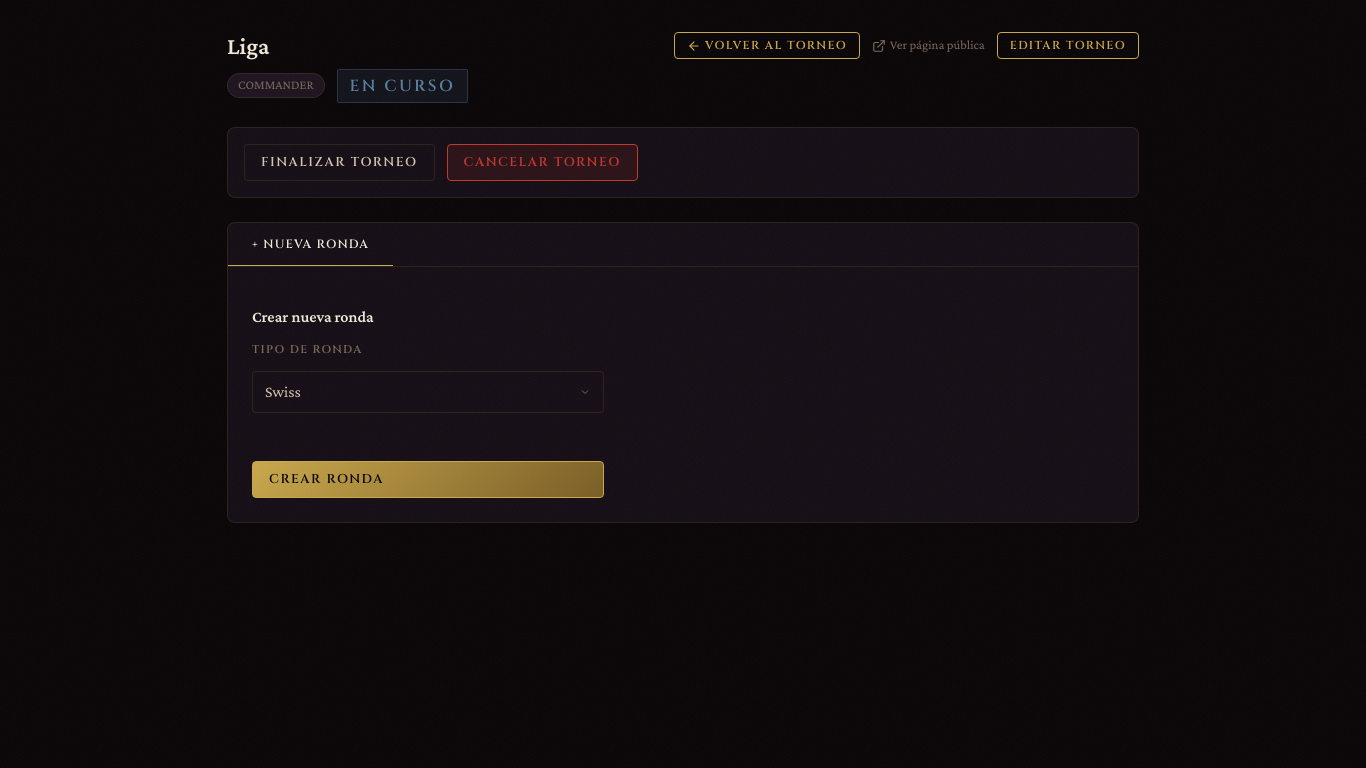
Scenario: GestionTorneo › muestra error cuando falla cambiarEstadoTorneo
Check: the heading "Liga" is shown, box [227,32,270,59]
Click the button "Finalizar torneo" at (339, 162), box [244,144,434,181]
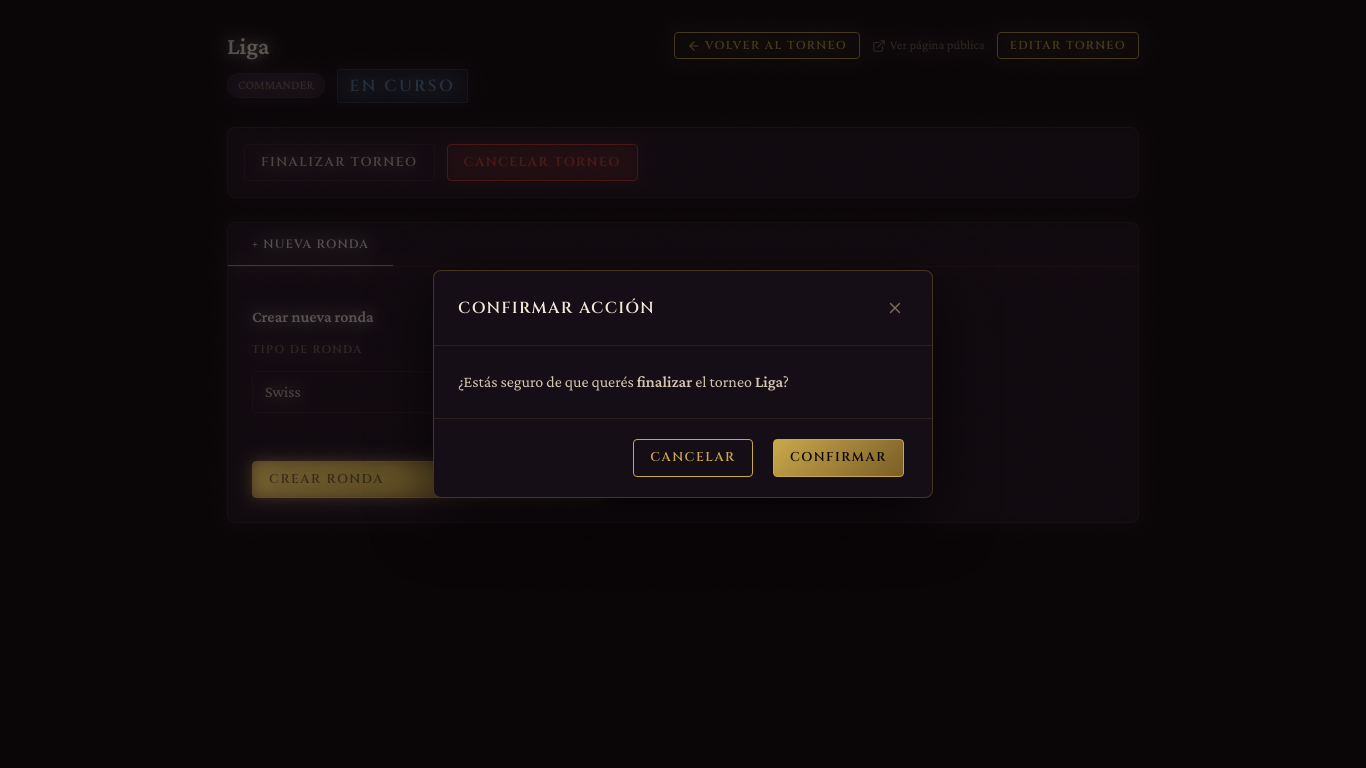
Click the button "Confirmar" at (838, 458), box [773,439,904,477]
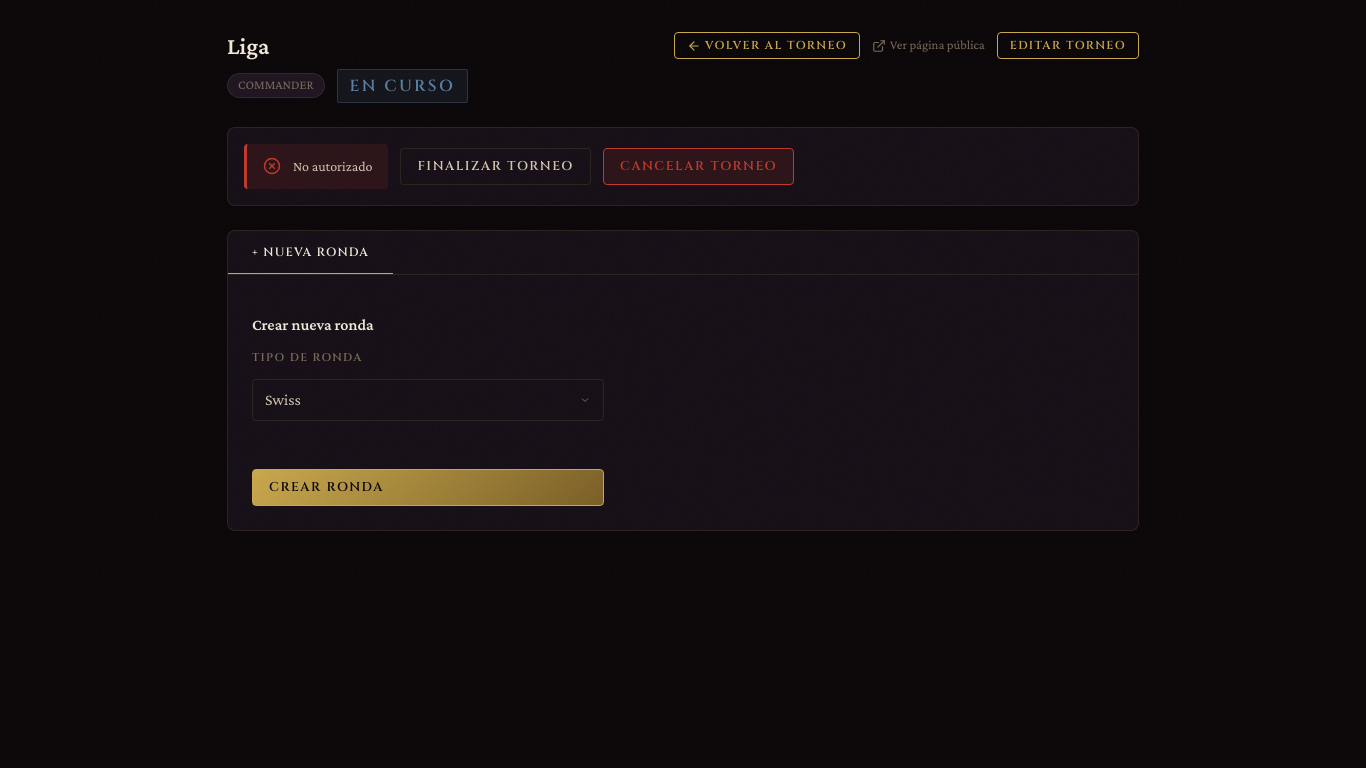
Check: the text "No autorizado" is shown, box [293,156,372,177]
